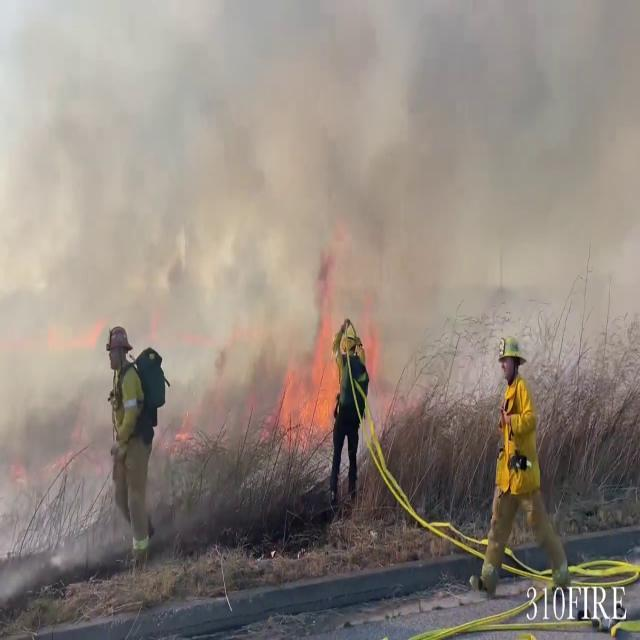Fire: (279, 266, 341, 450)
Smoke: (3, 0, 637, 431)
